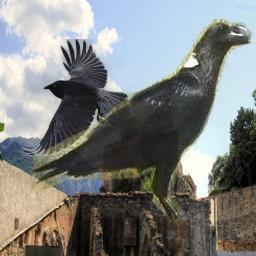Crow: (30, 19, 255, 225), (21, 39, 130, 156)
